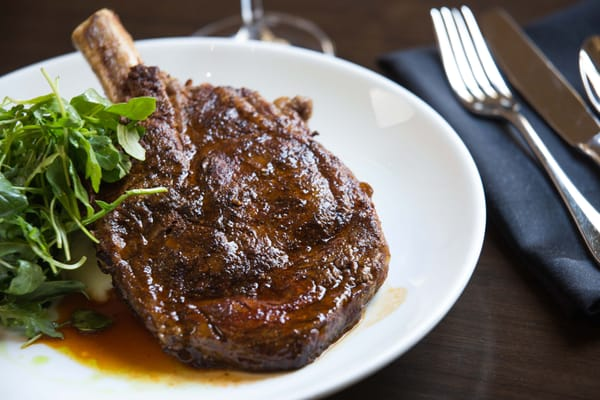burger: (430, 3, 600, 285)
sandwich: (478, 5, 600, 176)
soup: (5, 6, 393, 380)
